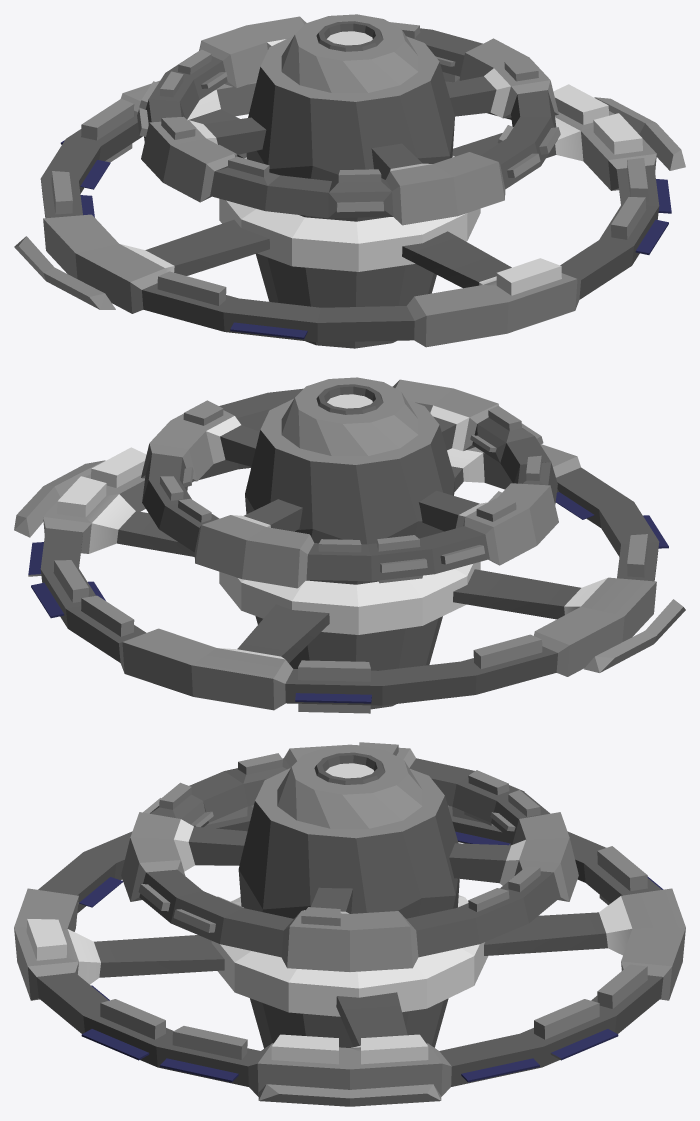
File: Space_Port.fbx
3 renders of one model, top to bottom at view 1: azimuth 30°, elevation 25°; view 2: azimuth 150°, elevation 25°; view 3: azimuth 270°, elevation 25°, orthographic. The views are drawn at different scales.
Parts seen in each view (by area): view 1: Space_Station_Outer_Ring, Space_Station_Body, Space_Station_Inner_Ring; view 2: Space_Station_Outer_Ring, Space_Station_Body, Space_Station_Inner_Ring; view 3: Space_Station_Outer_Ring, Space_Station_Body, Space_Station_Inner_Ring.
Boxes of the visible parts, x1=… form: Space_Station_Outer_Ring: x1=14, y1=72, x2=685, y2=347; Space_Station_Body: x1=219, y1=14, x2=480, y2=348; Space_Station_Inner_Ring: x1=137, y1=16, x2=560, y2=225; Space_Station_Outer_Ring: x1=14, y1=444, x2=685, y2=713; Space_Station_Body: x1=219, y1=377, x2=480, y2=709; Space_Station_Inner_Ring: x1=141, y1=379, x2=558, y2=588; Space_Station_Outer_Ring: x1=14, y1=805, x2=685, y2=1106; Space_Station_Body: x1=211, y1=745, x2=488, y2=1048; Space_Station_Inner_Ring: x1=121, y1=742, x2=578, y2=971.
Bounding box in the file's own units: 479 × 429 × 211.
